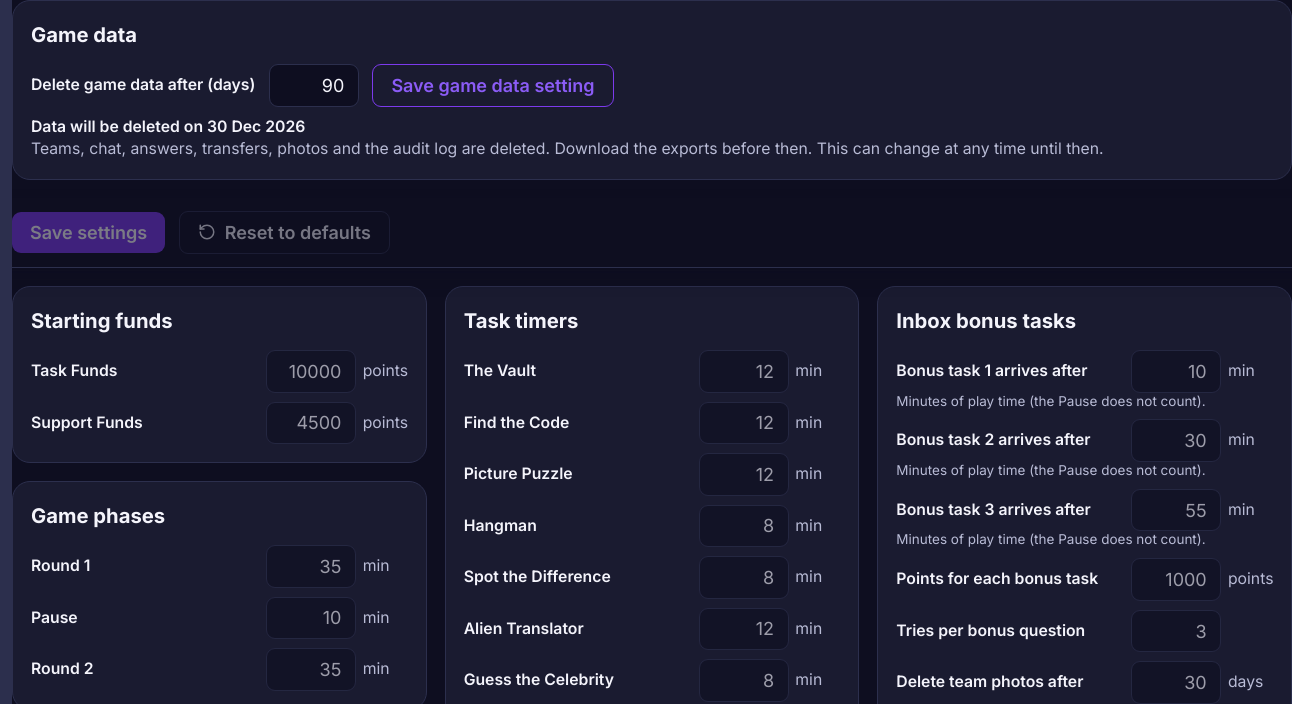
Test: Delete game data after (days) › refuses a number outside 7 to 365 without saving
Replace the text in the field labelled "Delete game data after (days)" with "3" at point(314, 85), box [269,64,359,106]
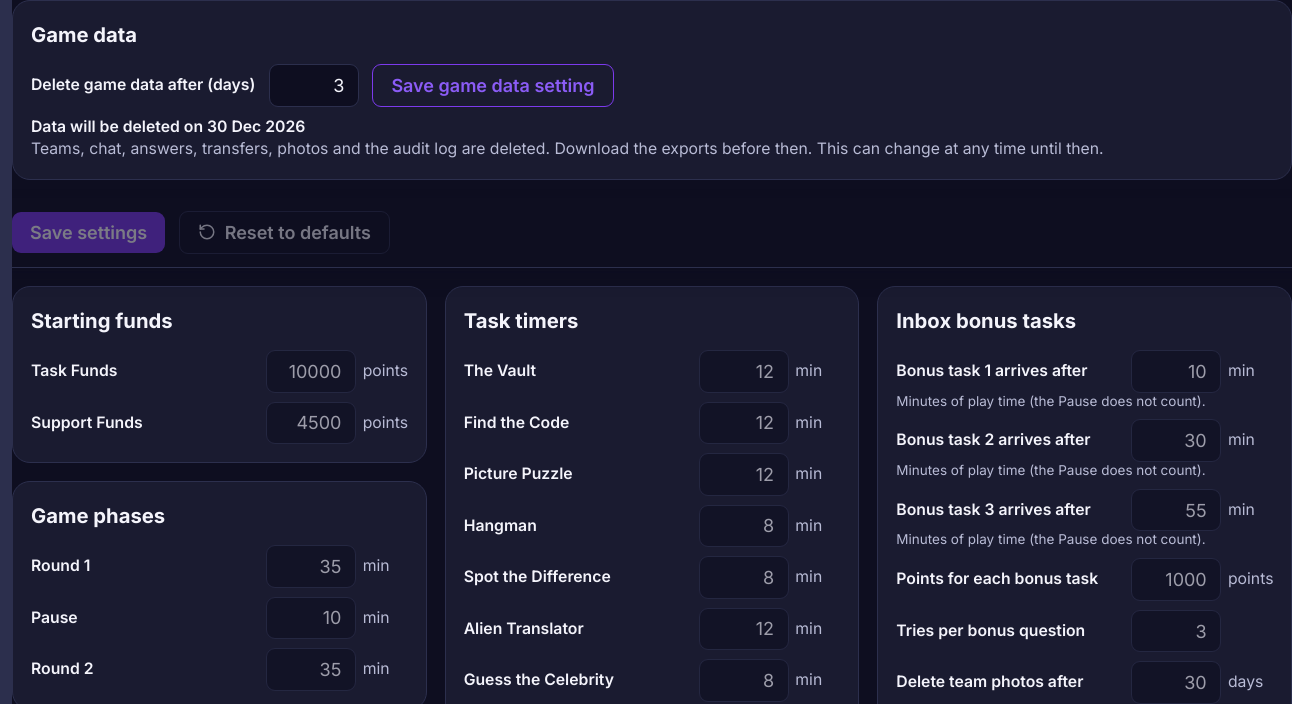
Click the button "Save game data setting" at point(493, 85), box [372,64,614,106]
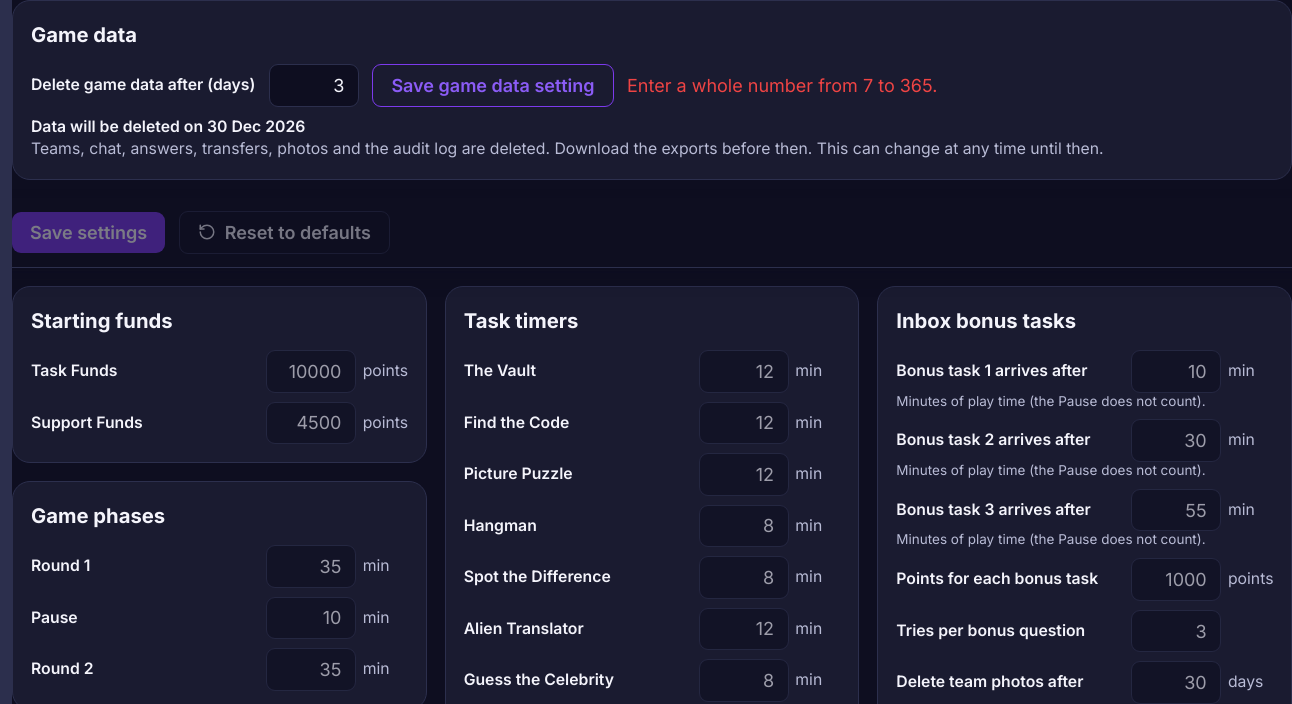
Expected: the text "Enter a whole number from 7 to 365." is shown, [627,72,937,99]
